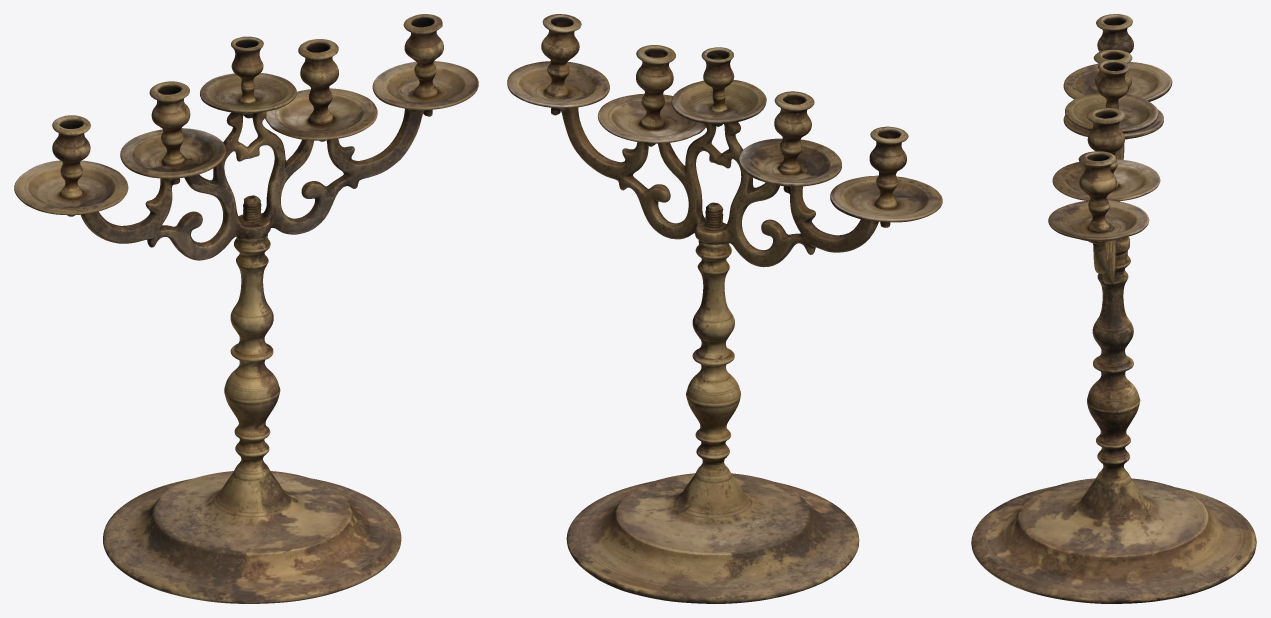
File: preview.glb
3 renders of one model, left to right at view 1: azimuth 30°, elevation 25°; view 2: azimuth 150°, elevation 25°; view 3: azimuth 270°, elevation 25°, orthographic. The views are drawn at different scales.
Parts seen in each view (by area): view 1: Object_2; view 2: Object_2; view 3: Object_2.
Part boxes in pixels (x1=…): Object_2: x1=14, y1=14, x2=478, y2=603; Object_2: x1=507, y1=14, x2=942, y2=603; Object_2: x1=971, y1=14, x2=1256, y2=603.
Size of the model in its own units: 0.5584 by 0.6079 by 0.3285.
1 material, 1 textured.
